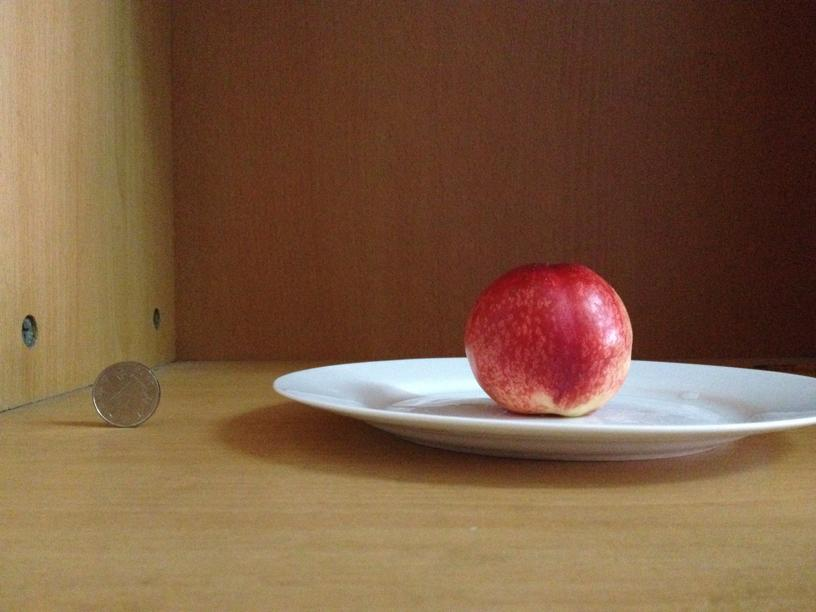coin: (90, 362, 160, 426)
peach: (462, 263, 635, 415)
